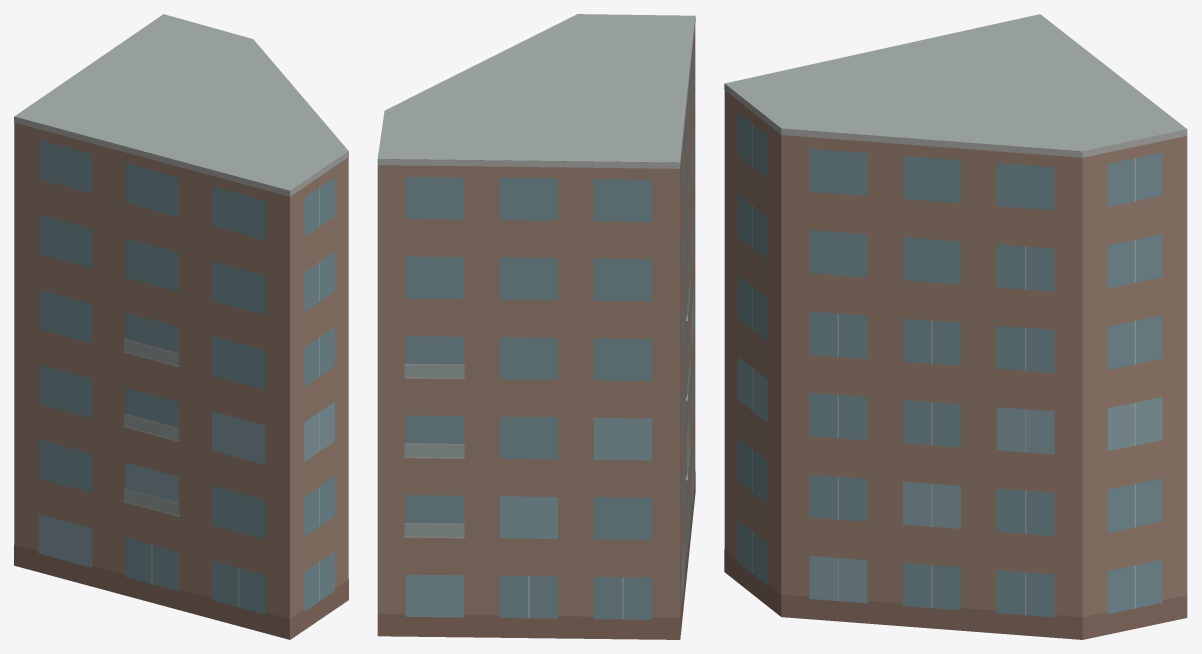
The model's file is survey-upis-33022909.glb.
3 renders of one model, left to right at view 1: azimuth 30°, elevation 25°; view 2: azimuth 150°, elevation 25°; view 3: azimuth 270°, elevation 25°, orthographic. The views are drawn at different scales.
Parts seen in each view (by area): view 1: survey-upis-33022909.tmp; view 2: survey-upis-33022909.tmp; view 3: survey-upis-33022909.tmp.
Boxes of the visible parts, x1,y1,x2,y2 form: survey-upis-33022909.tmp: [14, 14, 348, 639]; survey-upis-33022909.tmp: [377, 14, 695, 639]; survey-upis-33022909.tmp: [724, 14, 1187, 639].
Size of the model in its own units: 11.04 by 18.3 by 15.72.
